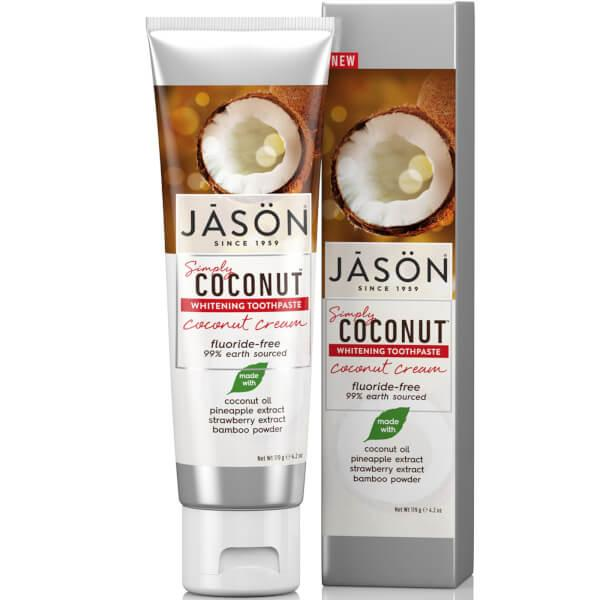toothpaste: (137, 8, 325, 598)
